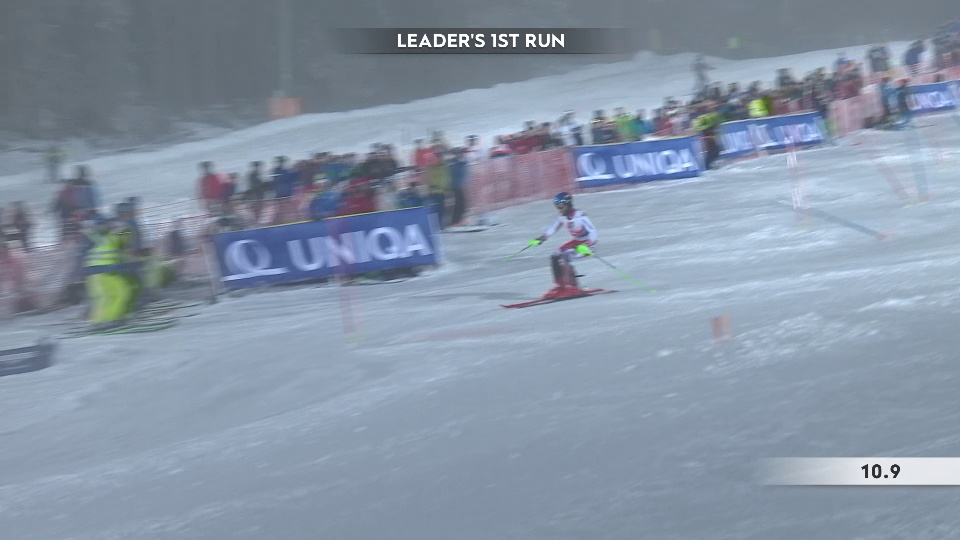uniqa: (224, 215, 432, 283), (573, 146, 694, 186), (760, 118, 833, 149), (909, 82, 957, 112)
